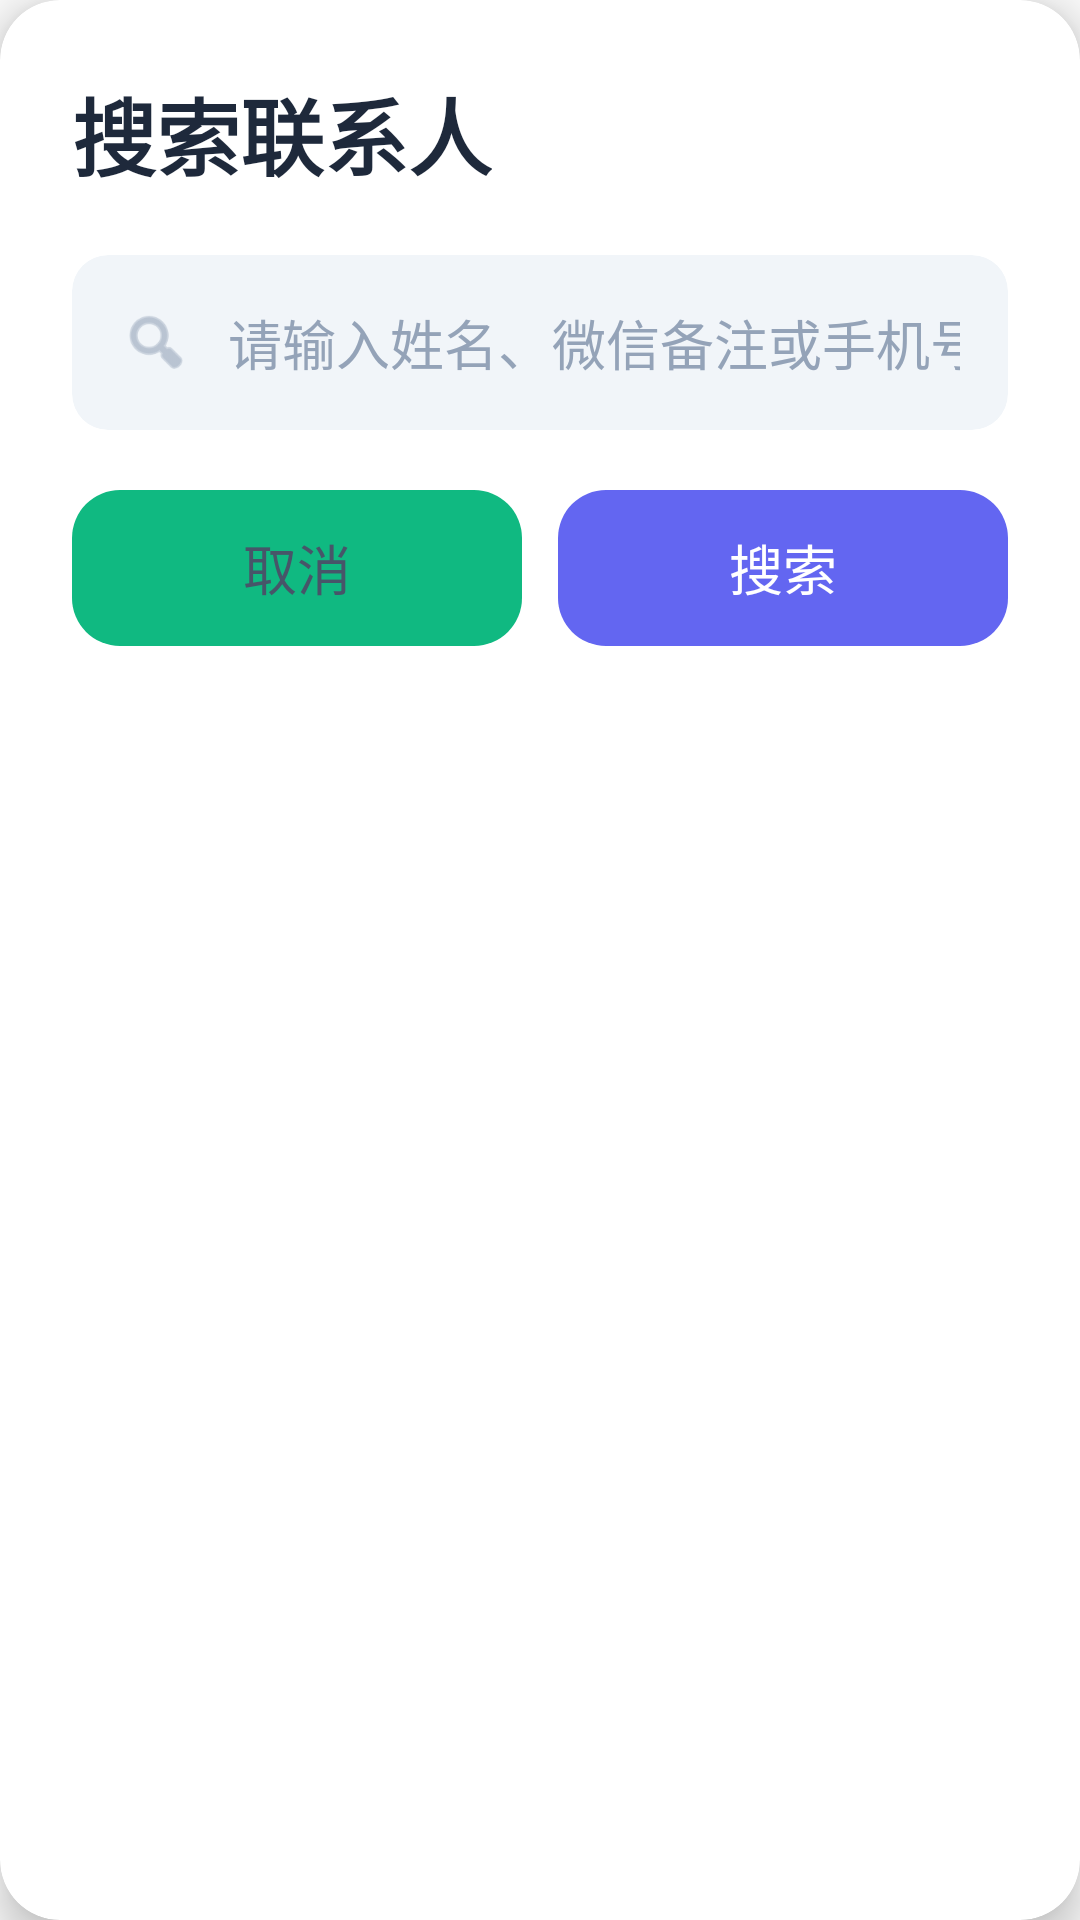

Icon click points for this 1080w x 1920h phone screenshot, format (x,y):
search: (156,342)
